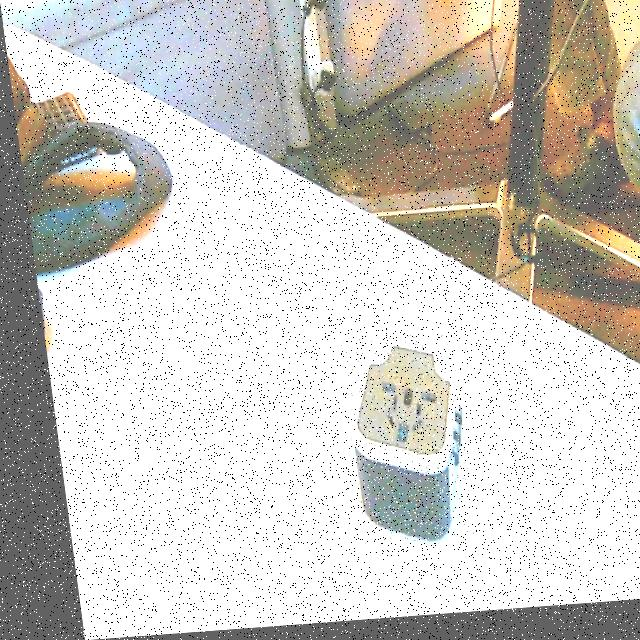adapter: (328, 339, 464, 550)
